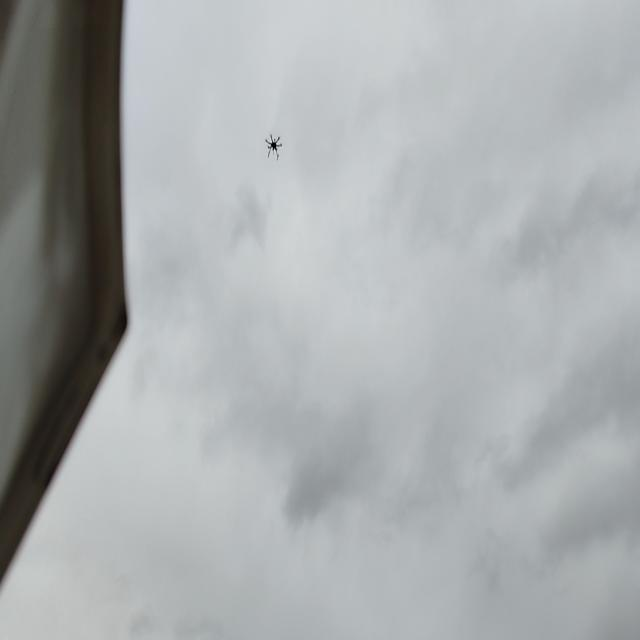drone: (264, 129, 284, 164)
